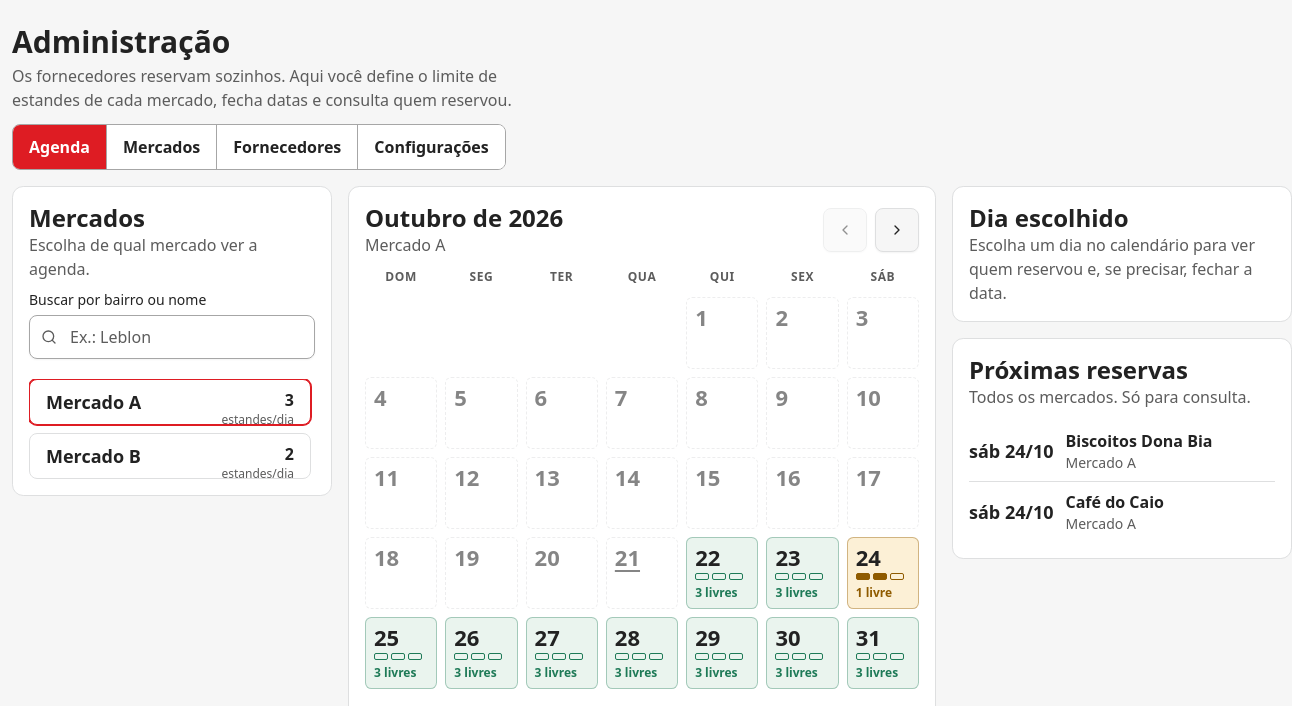
Agenda › fecha um dia com motivo, e as reservas feitas continuam
The image size is (1292, 706).
Step 1. Click the button with aria-label "Sábado, 24 de outubro" → (883, 573), box [847,537,919,609]
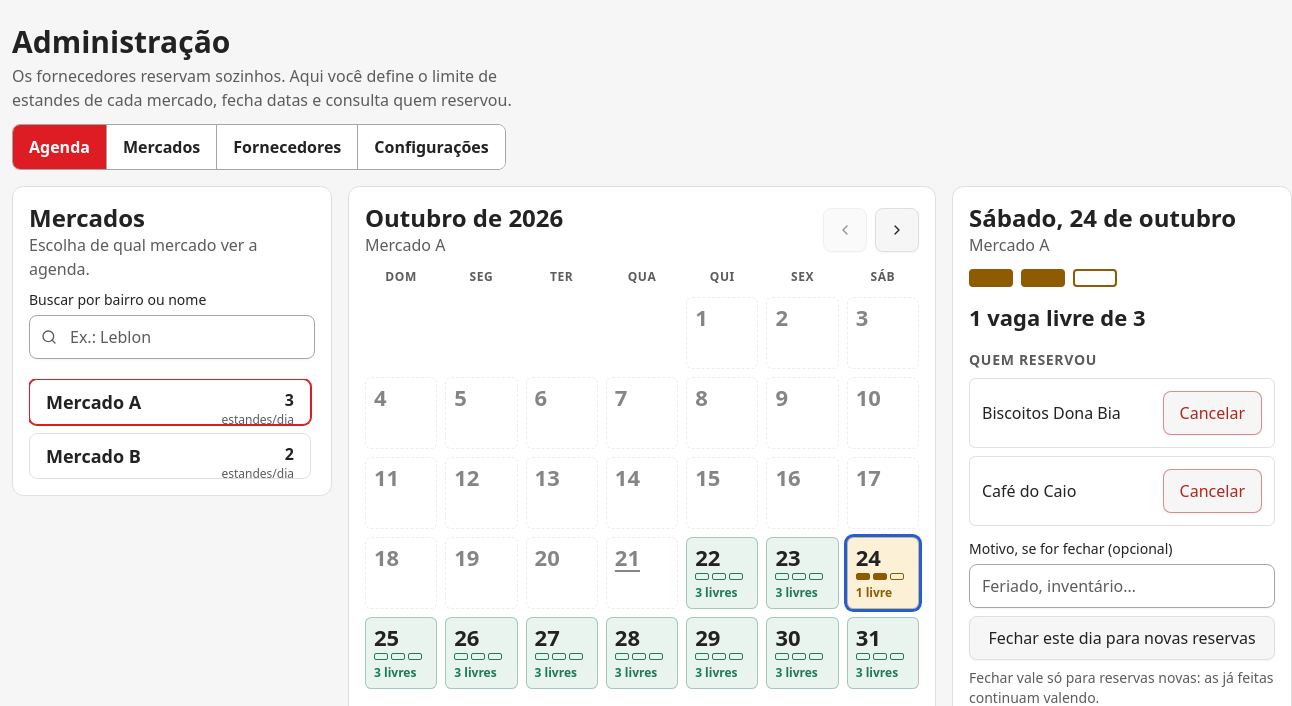
Step 2. Type "Inventário" into the field labelled "Motivo, se for fechar (opcional)" → (1122, 586), box [969,564,1275,608]
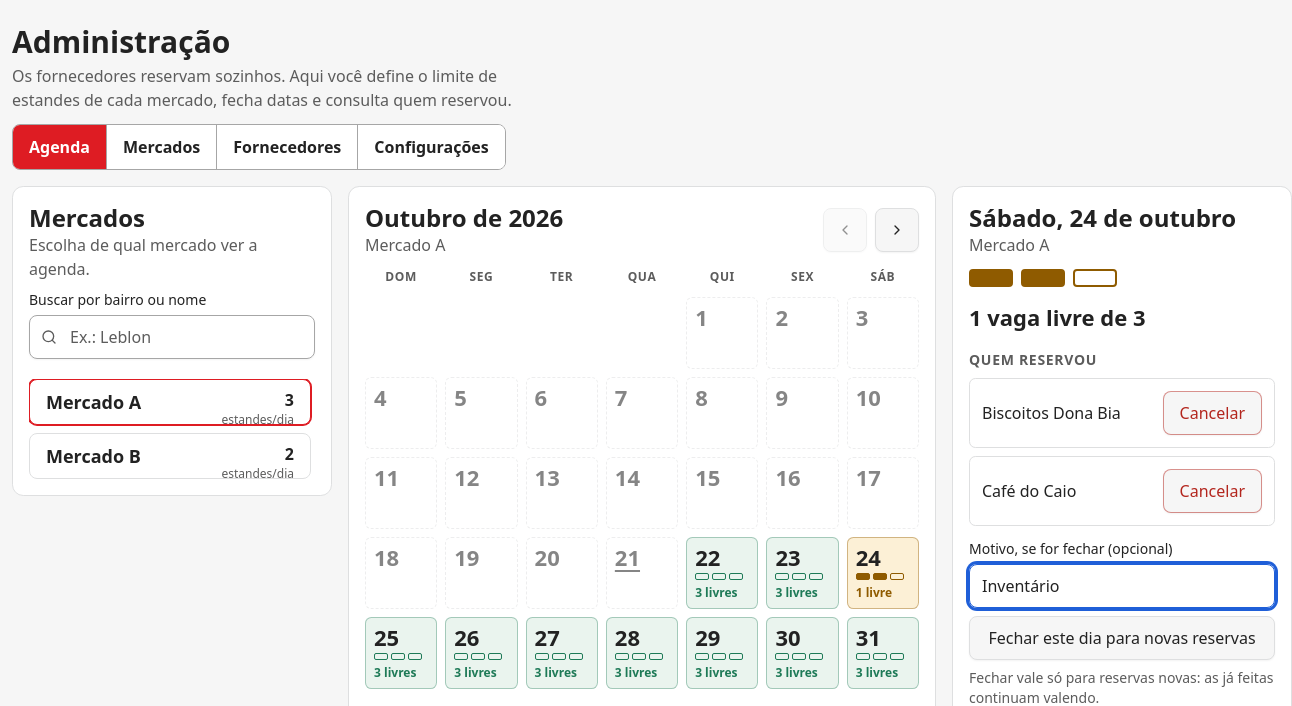
Step 3. Click the button "Fechar este dia para novas reservas" → (1122, 638), box [969,616,1275,660]
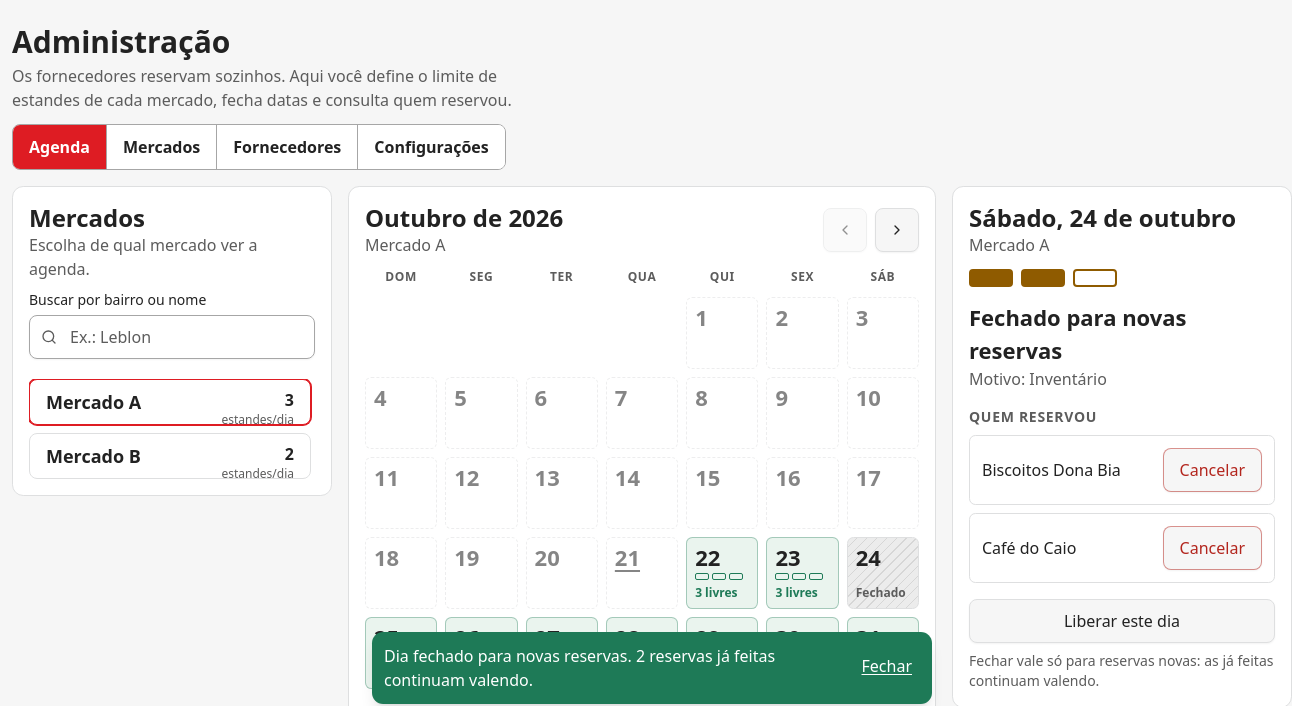
Expected: the message shows "Dia fechado para novas reservas. 2 reservas já feitas continuam valendo.", [384,645,775,691]
Expected: the text "Fechado para novas reservas" is shown, [969,302,1186,365]
Expected: the text "Motivo: Inventário" is shown, [969,368,1107,390]
